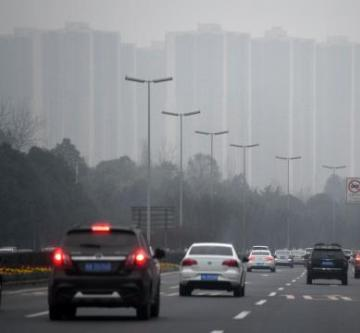car: (46, 222, 165, 320), (177, 241, 249, 296), (302, 242, 350, 284), (246, 248, 277, 272), (273, 249, 293, 267)
